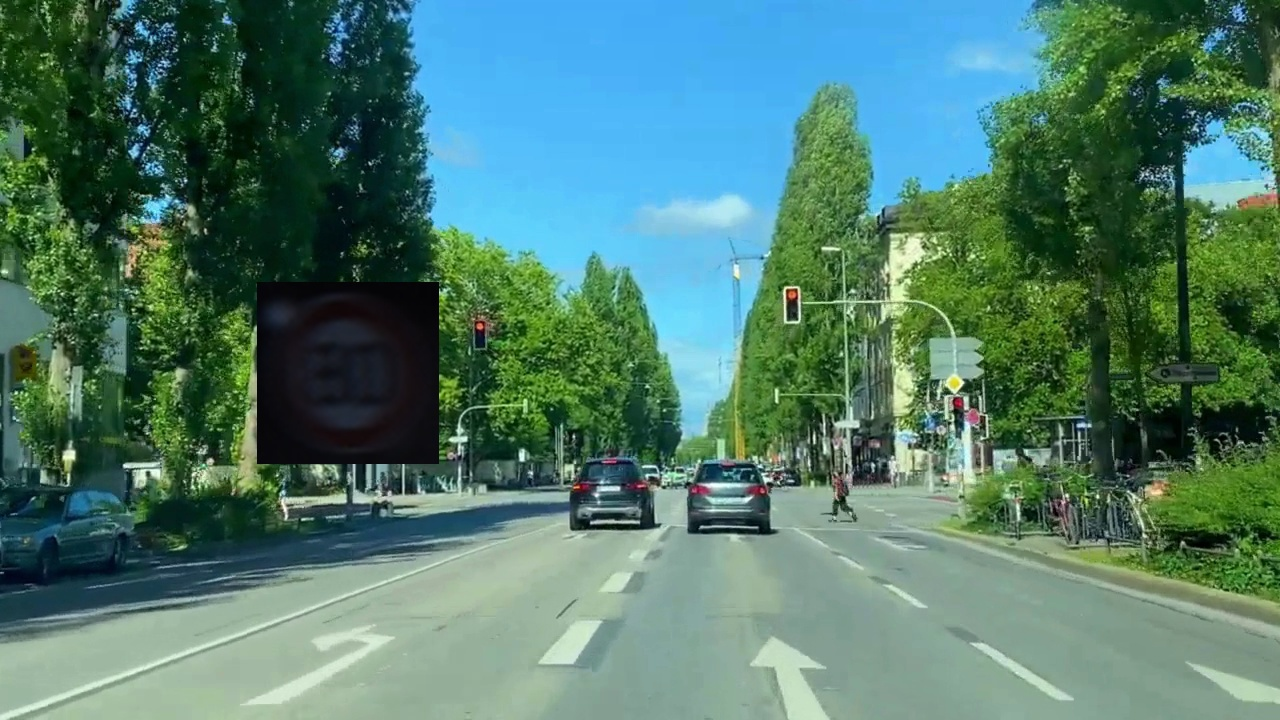Speed 80: (257, 282, 439, 464)
